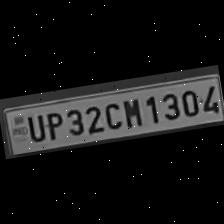0: (176, 86, 200, 118)
1: (139, 93, 161, 127)
2: (82, 102, 104, 136)
3: (158, 88, 182, 124), (62, 105, 84, 137)
4: (197, 82, 221, 115)
C: (100, 100, 122, 132)
M: (119, 96, 146, 130)
P: (42, 108, 66, 143)
U: (23, 111, 46, 144)
